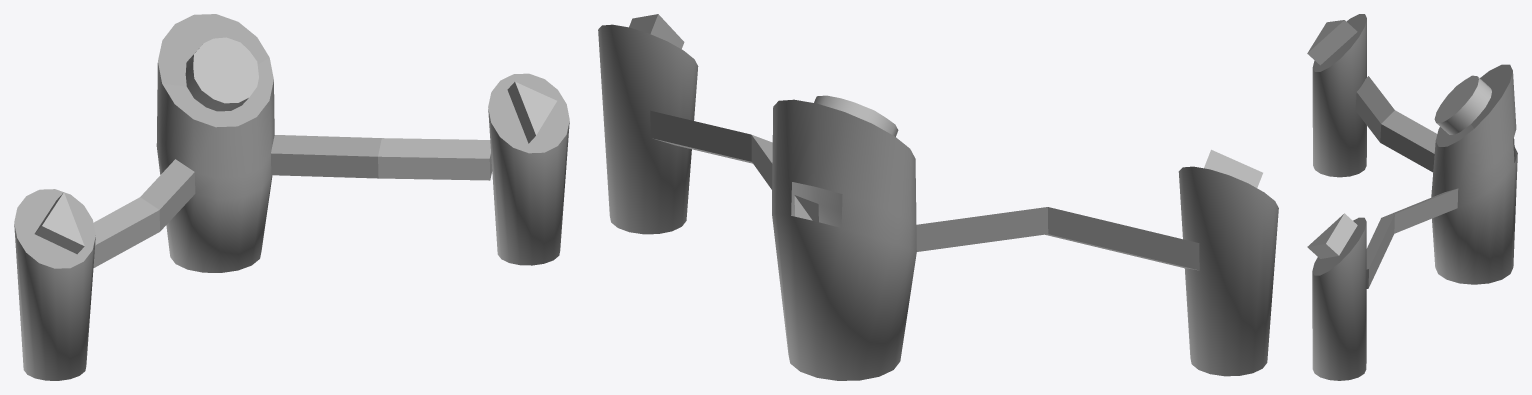
Rendered from -Main Monitor Console-.fbx.
3 renders of one model, left to right at view 1: azimuth 30°, elevation 25°; view 2: azimuth 150°, elevation 25°; view 3: azimuth 270°, elevation 25°, orthographic. The views are drawn at different scales.
Parts seen in each view (by area): view 1: Main_Monitor_Console.Middle, Main_Monitor_Console.Left, Main_Monitor_Console.Right; view 2: Main_Monitor_Console.Middle, Main_Monitor_Console.Left, Main_Monitor_Console.Right; view 3: Main_Monitor_Console.Middle, Main_Monitor_Console.Right, Main_Monitor_Console.Left.
Part boxes in pixels (x1,y1,x2,y2): Main_Monitor_Console.Middle: [93, 14, 492, 272]; Main_Monitor_Console.Left: [14, 189, 95, 380]; Main_Monitor_Console.Right: [488, 73, 569, 265]; Main_Monitor_Console.Middle: [650, 95, 1199, 380]; Main_Monitor_Console.Left: [1178, 149, 1278, 376]; Main_Monitor_Console.Right: [598, 14, 698, 234]; Main_Monitor_Console.Middle: [1355, 64, 1517, 288]; Main_Monitor_Console.Right: [1307, 213, 1366, 380]; Main_Monitor_Console.Left: [1307, 14, 1366, 177].
Bounding box in the file's own units: 3.04 × 1.18 × 1.15.
